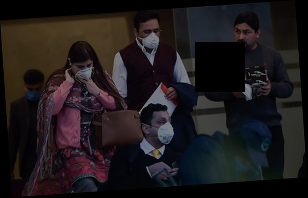with_mask: (149, 115, 175, 144), (136, 25, 161, 48), (71, 61, 95, 81), (25, 85, 44, 102)
without_mask: (233, 25, 257, 49)
